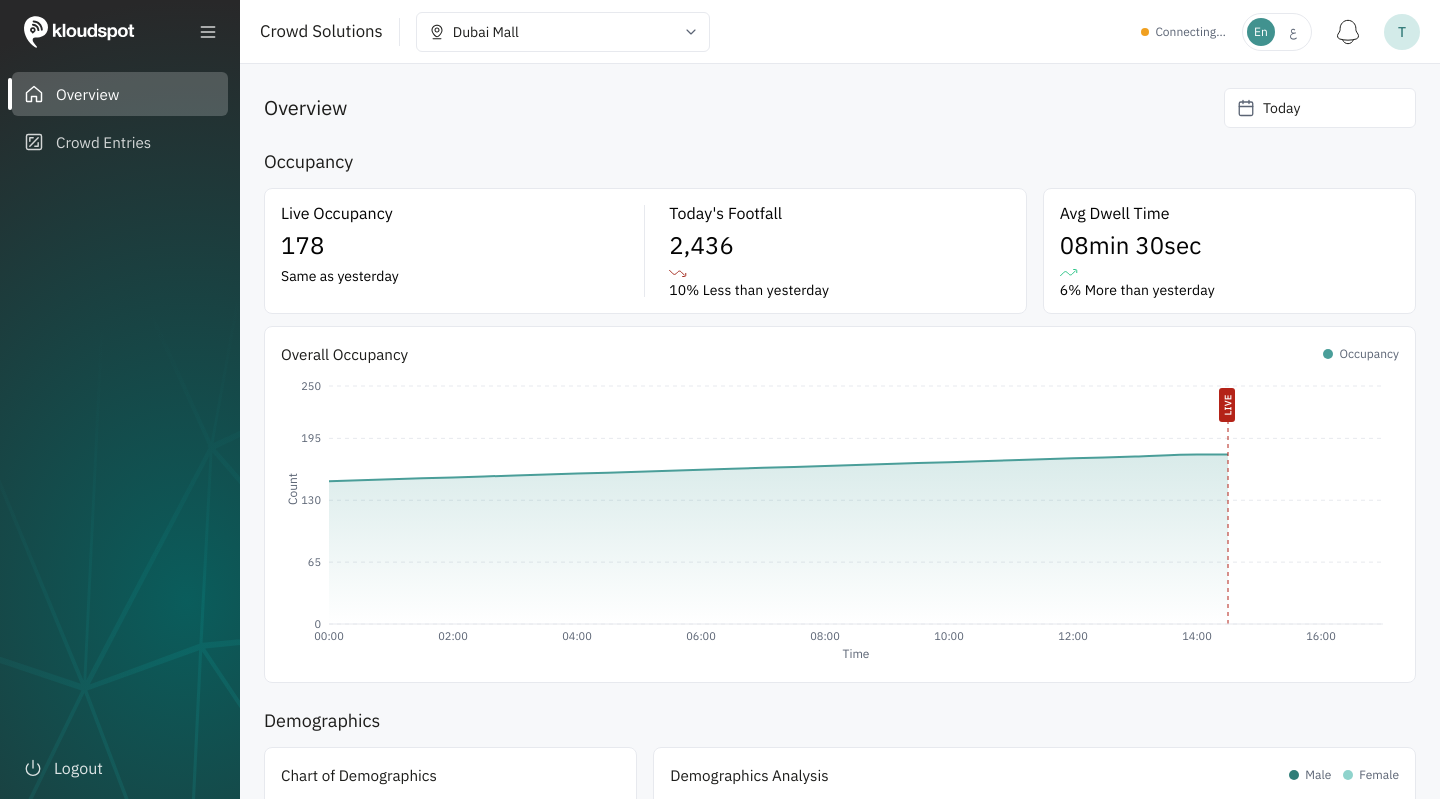
app shell › opens one authenticated socket and closes it on logout
This screenshot has width=1440, height=799.
Check: the heading "Overview" is shown, box [264,94,348,122]
Step 1. Click the button "Logout" → coordinates (120, 768), box [12,746,228,790]
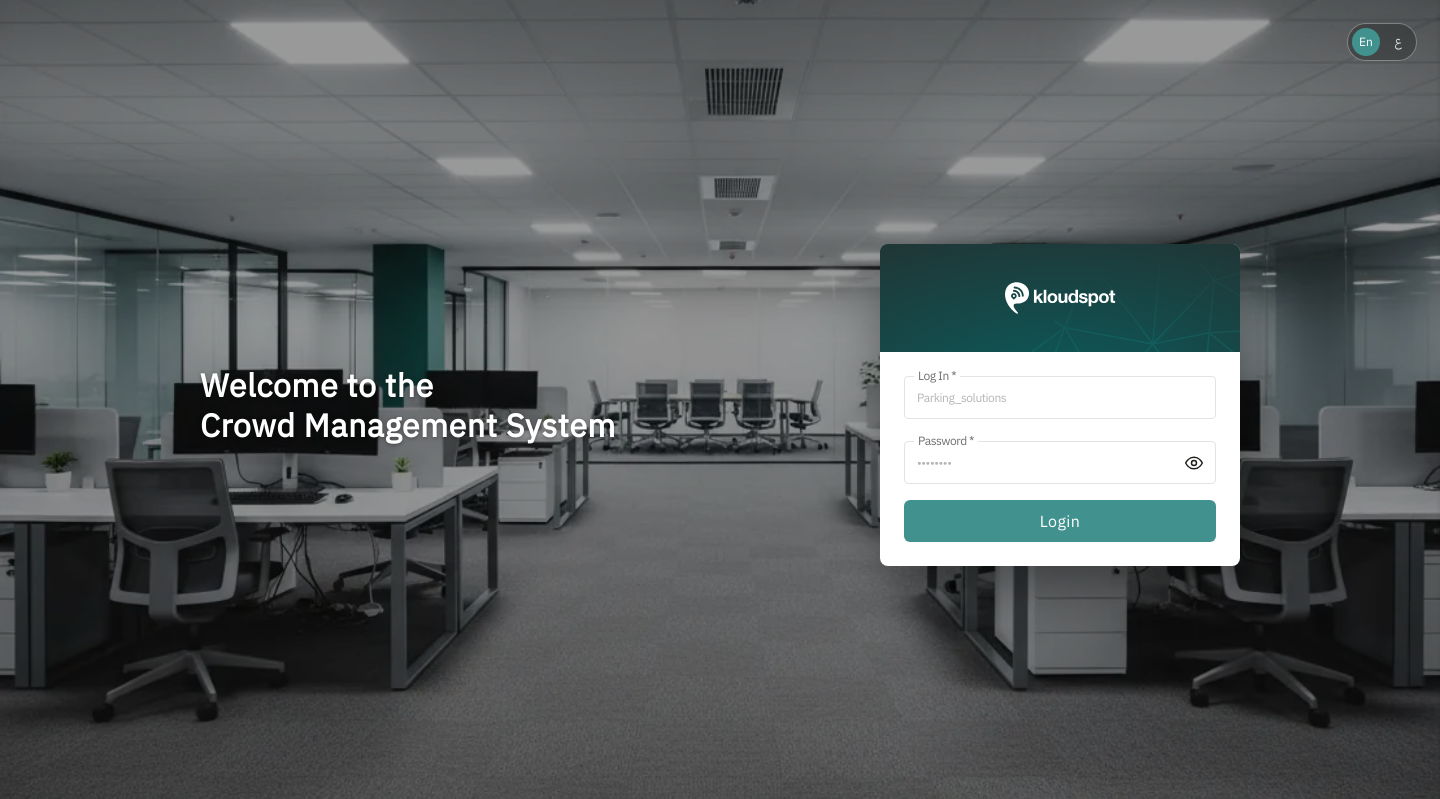
Check: the button "Login" is shown, box [904,500,1216,542]
